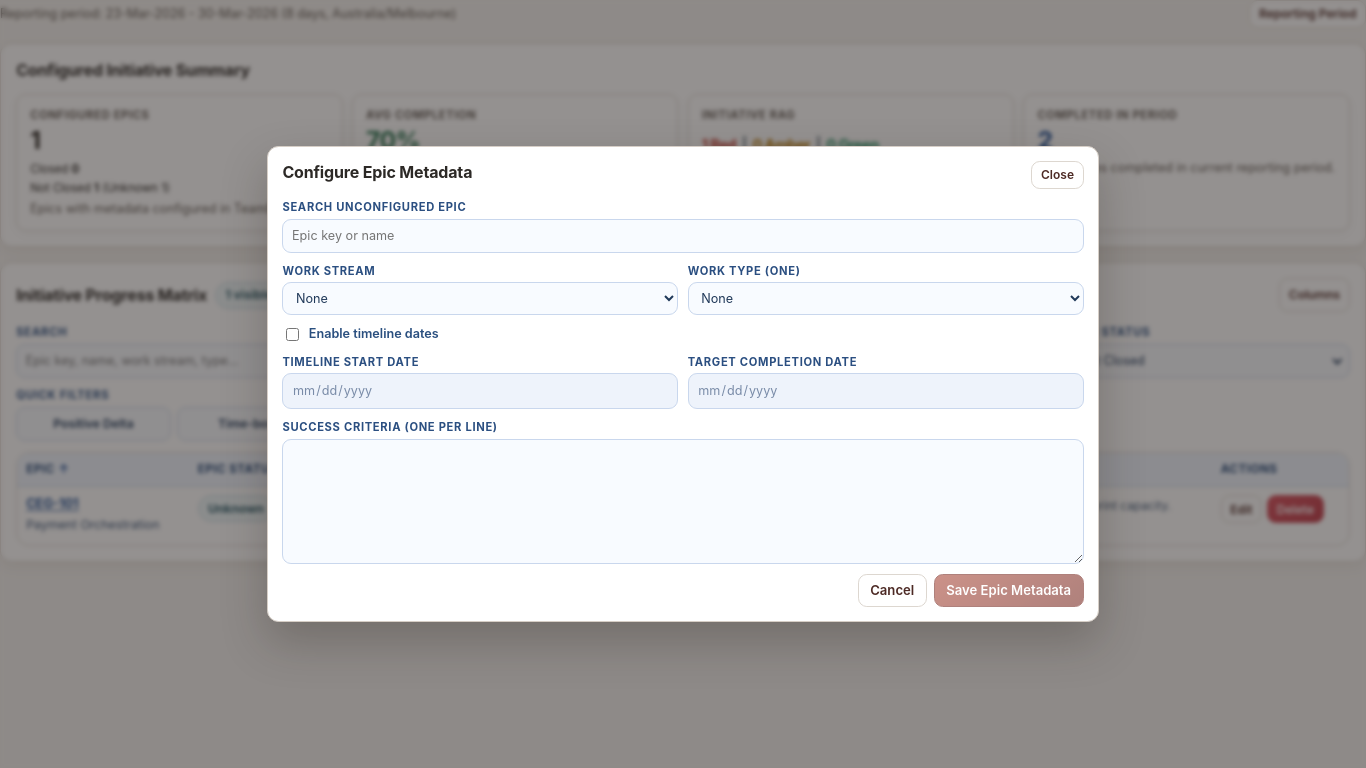
it: InitiativesScreen › shows epic candidates only when configure search input is focused
Expected: the link "CEG-101" is shown, left=26, top=496, right=79, bottom=511
Focus the field with placeholder "Epic key or name". click: [683, 236]
box: left=282, top=219, right=1084, bottom=253
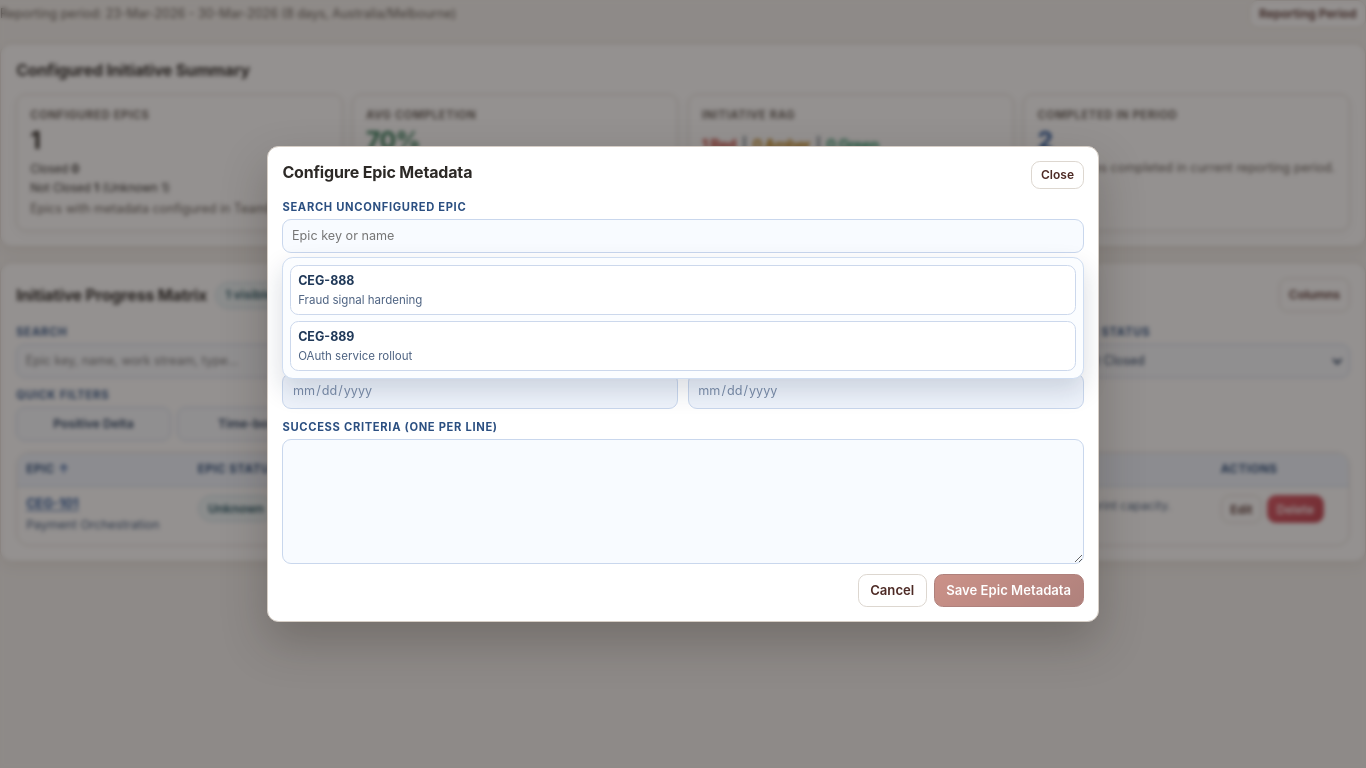
Expected: the list named "Epic candidates" is shown, left=282, top=258, right=1084, bottom=379
Expected: the button "CEG-888 Fraud signal hardening" is shown
Press the mouse on the button "CEG-888 Fraud signal hardening" at [326, 281], box left=290, top=265, right=1076, bottom=315
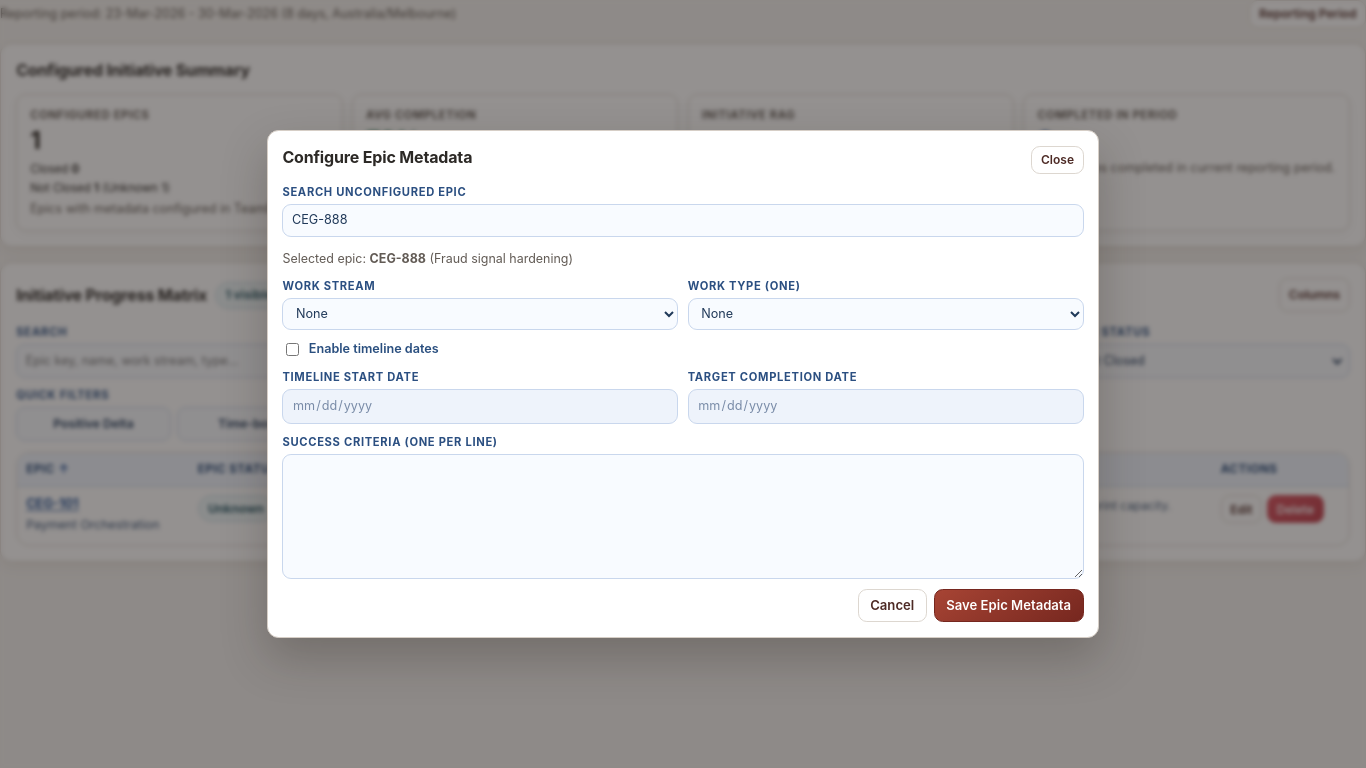
Expected: the text "Selected epic: CEG-888 (Fraud signal hardening)" is shown, left=282, top=252, right=573, bottom=266
Click the button "Save Epic Metadata". click: [1009, 606]
box: left=934, top=589, right=1084, bottom=622
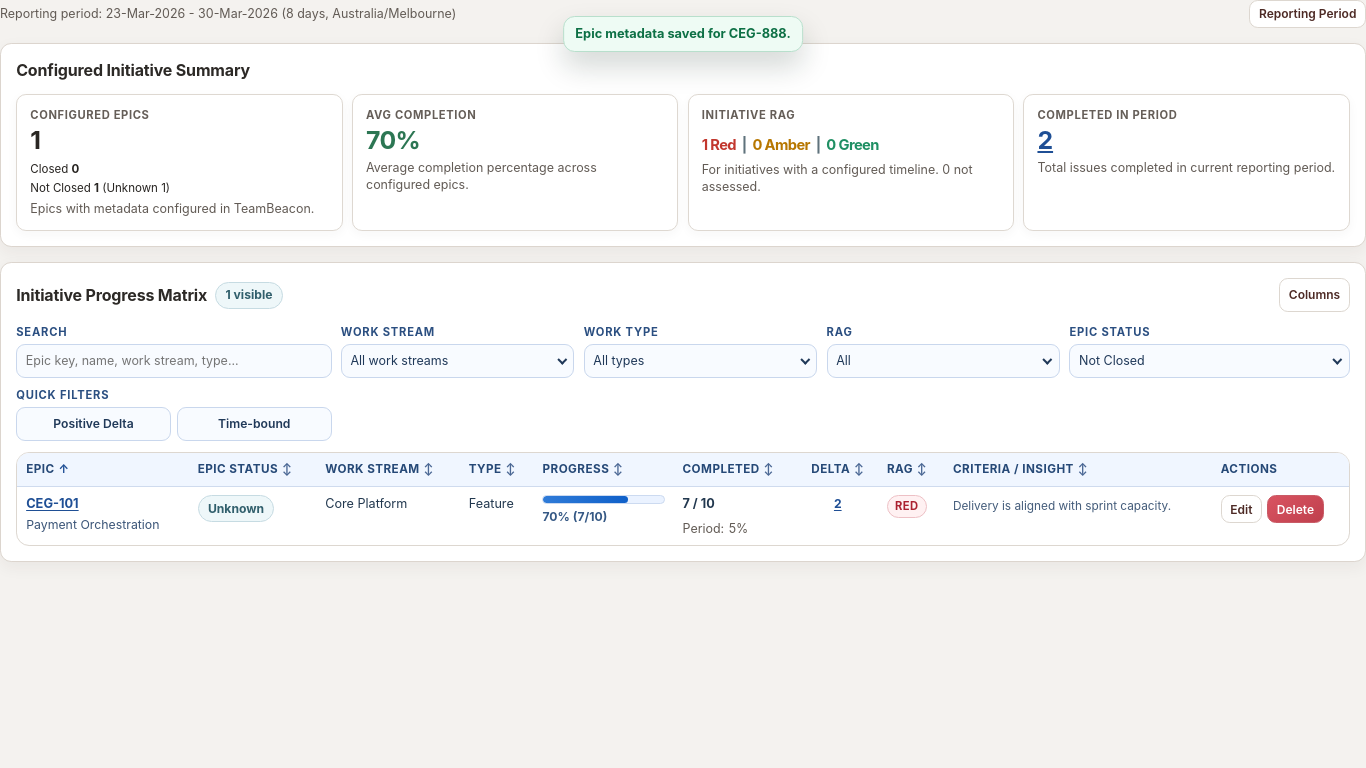
Expected: the text "Epic metadata saved for CEG-888." is shown, left=563, top=16, right=803, bottom=52
